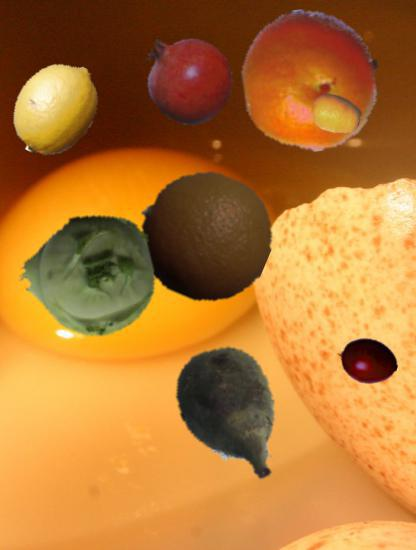Beetroot: (158, 343, 305, 490)
Kohlrabi: (19, 207, 159, 347)
Kumquats: (311, 89, 362, 140)
Lemon: (6, 59, 107, 160)
Orange: (137, 169, 272, 304)
Pomegranate: (138, 29, 236, 127)
Tamarillo: (336, 330, 398, 392)
Tangelo: (240, 8, 384, 152)
